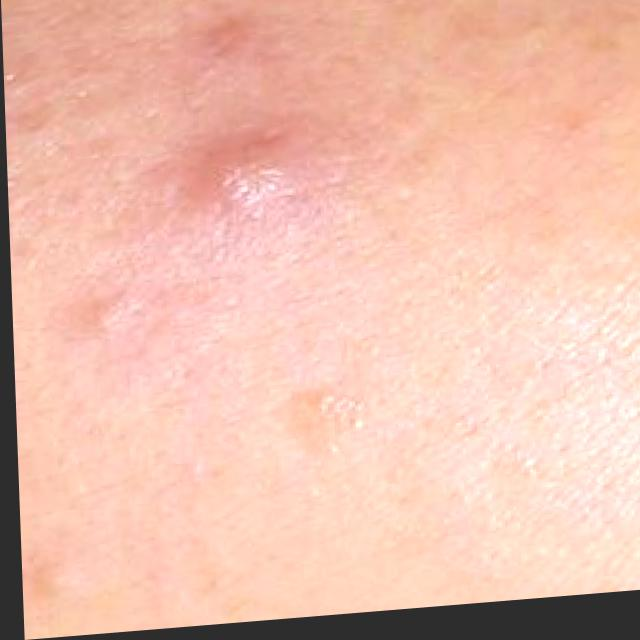blackheads: (175, 142, 303, 234)
